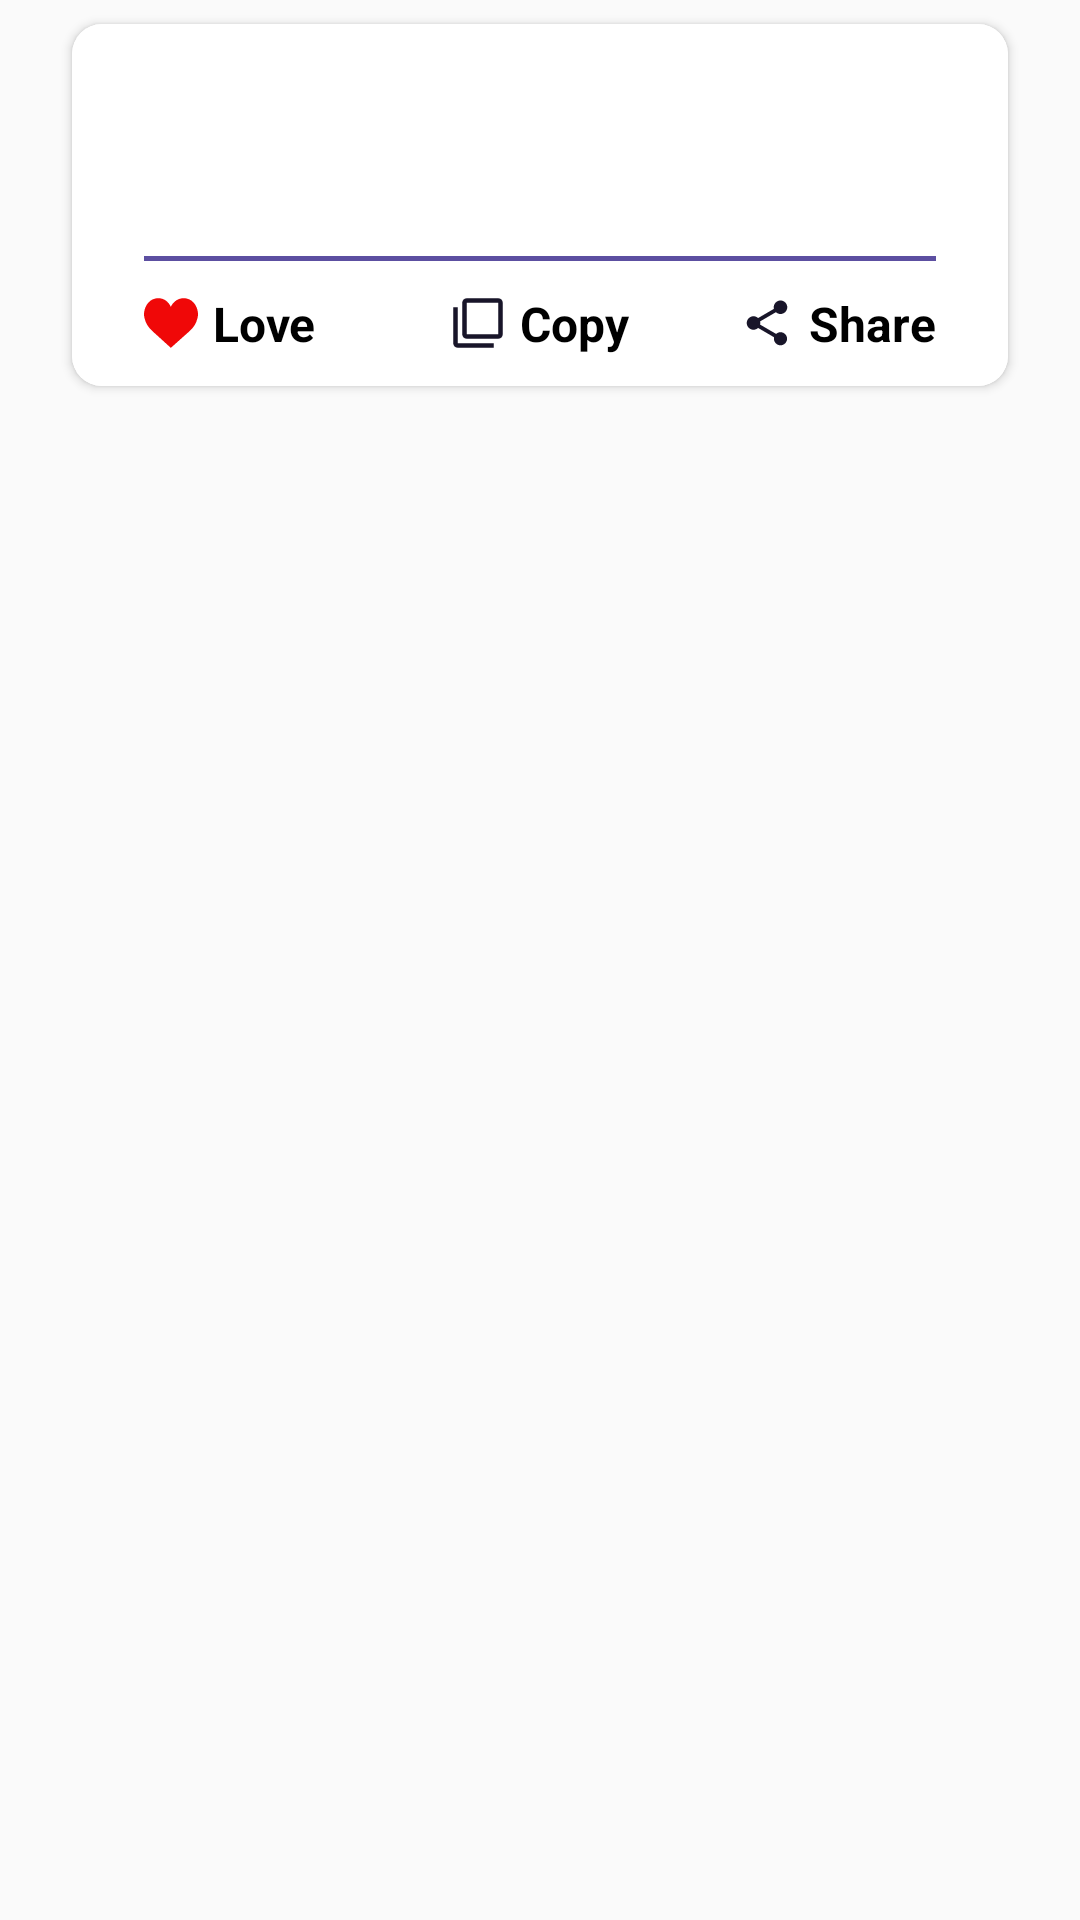

Point at icon controls on the screen. Image size 1080 × 1920, points as (x,y).
favourite select: (171,323)
